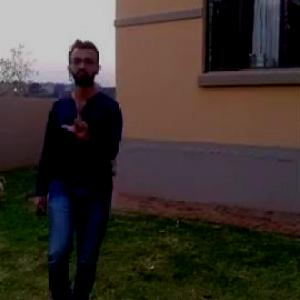land_hand: (60, 99, 97, 142)
